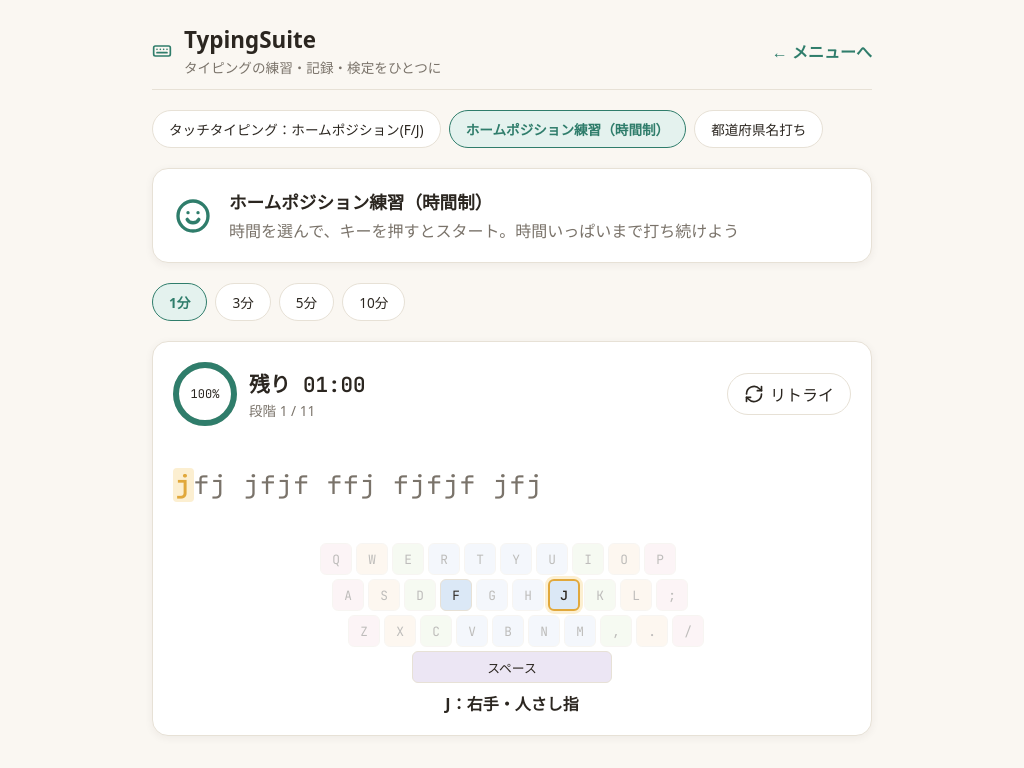
PracticeScreen（時間制の課題） › 1分 / 3分 / 5分 / 10分 から時間を選べる
The width and height of the screenshot is (1024, 768).
Expected: the button "1分" is shown, [152,283,207,321]
Expected: the button "5分" is shown, [279,283,334,321]
Step 1. Click the button "3分" → (243, 302), box [215,283,271,321]
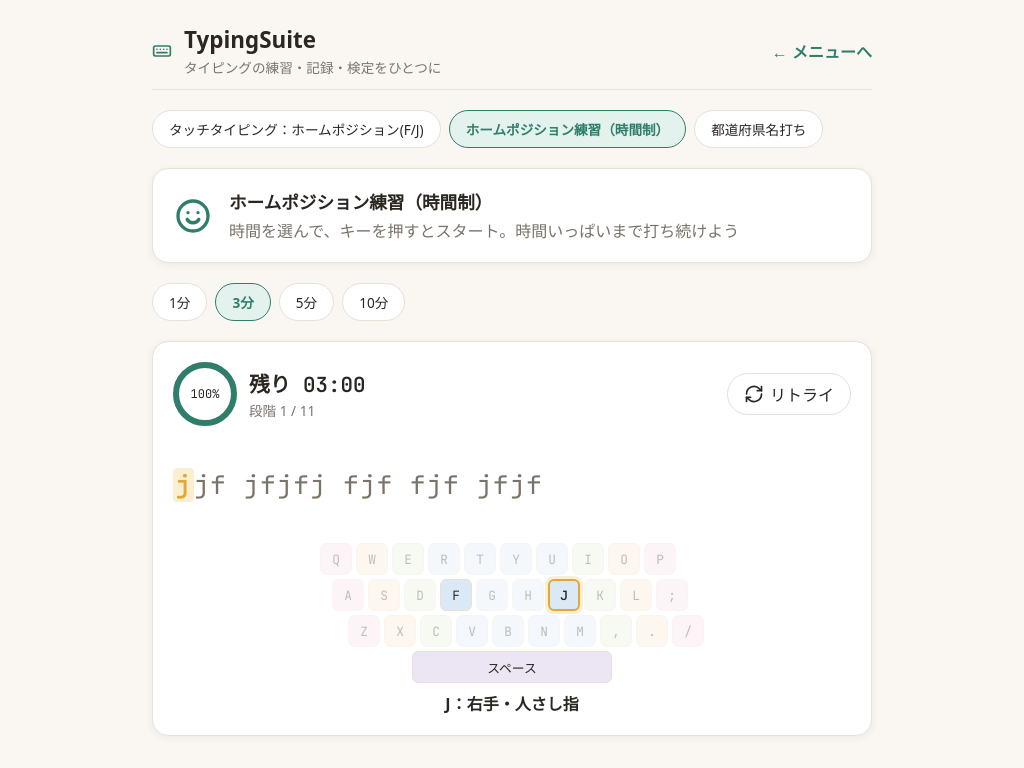
Now the text with test id "remaining" shows "03:00", box [303,371,366,398]
